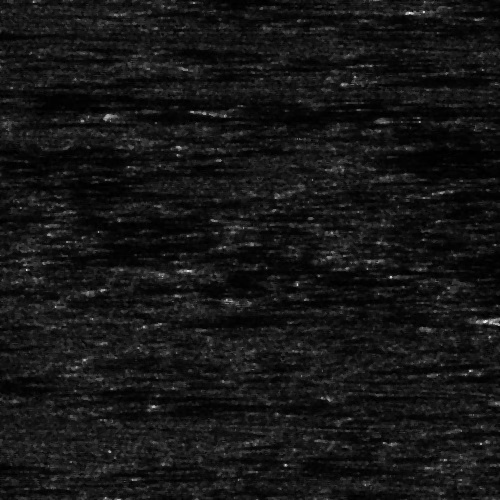object: (386, 311, 500, 328), (372, 1, 477, 18), (183, 293, 308, 306), (292, 389, 385, 398), (204, 106, 267, 115), (465, 397, 500, 404), (480, 76, 500, 87), (165, 267, 196, 270)
shadow: (236, 106, 500, 115), (425, 1, 500, 18), (246, 293, 344, 306), (0, 27, 109, 36), (181, 267, 500, 270), (339, 389, 443, 398), (0, 455, 30, 474)
